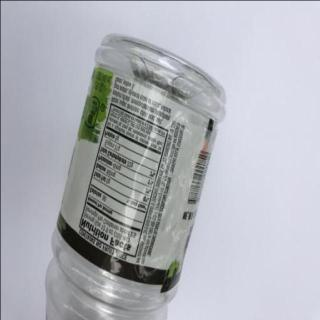Anorganik: (41, 29, 226, 318)
